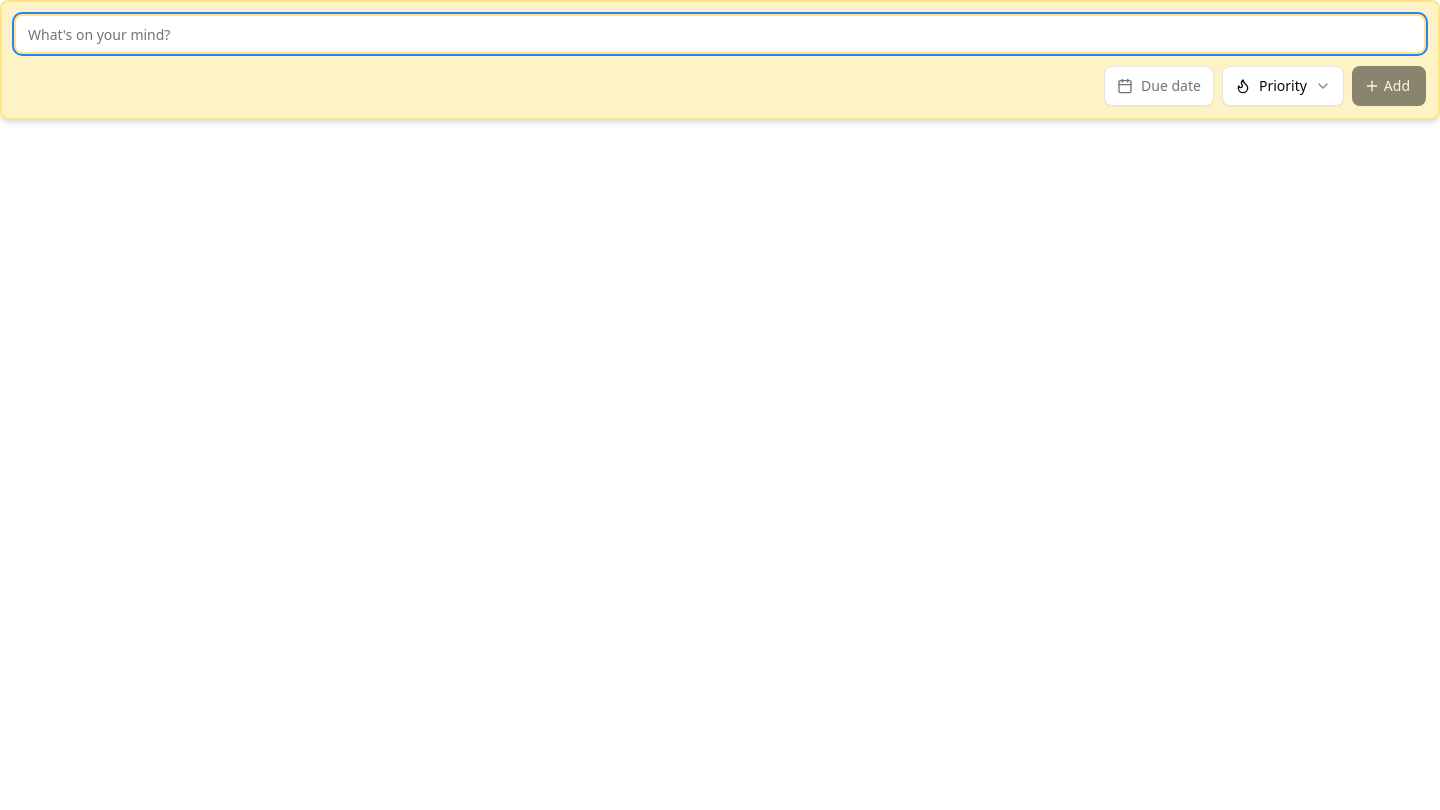
AddTodoForm Component › Form Interaction with Due Date › should open date picker popover when calendar button is clicked
The image size is (1440, 810).
Note: The calendar button is clicked
Click the button "Due date" at (1159, 86), box [1104, 66, 1214, 106]
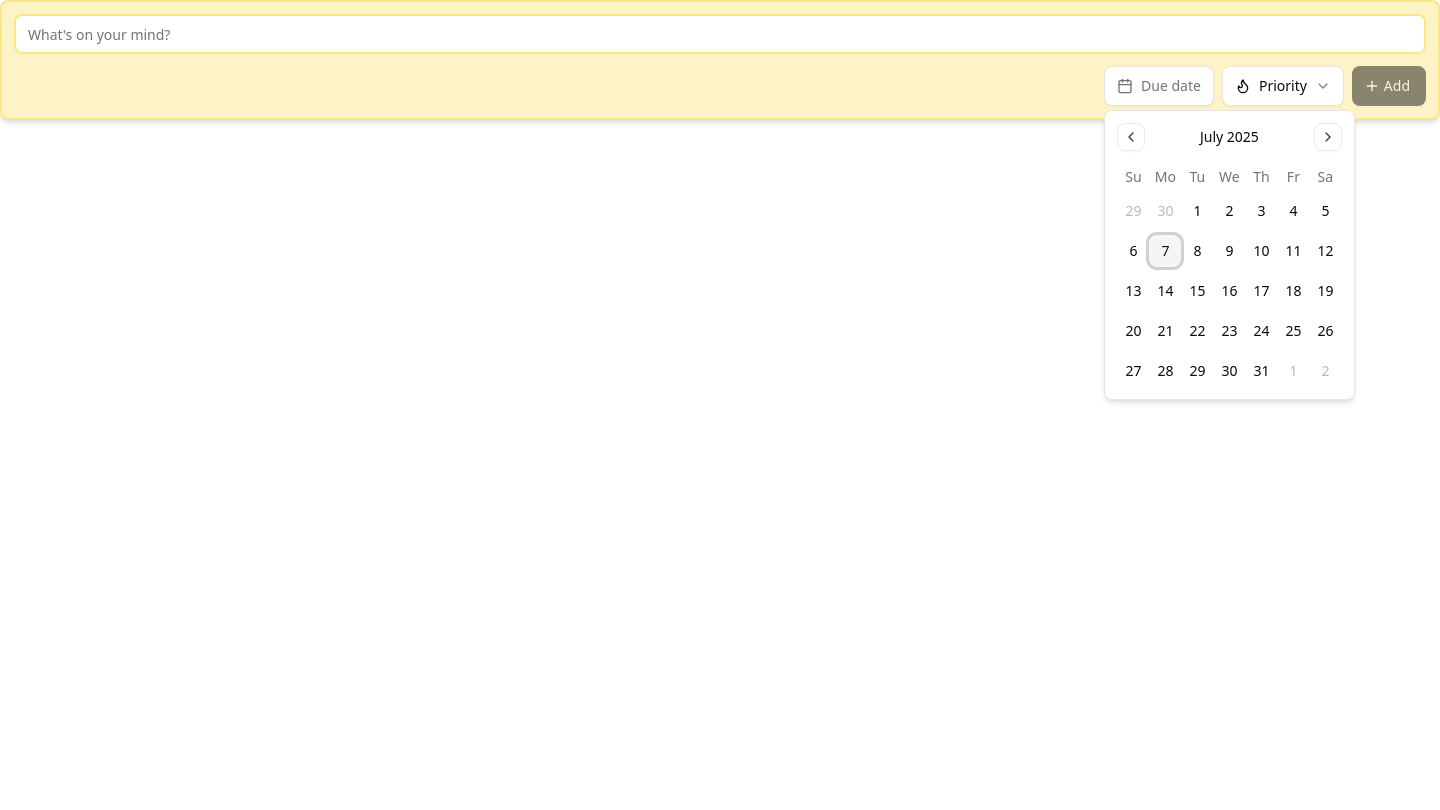
Check: the table is shown, box [1117, 167, 1341, 387]
